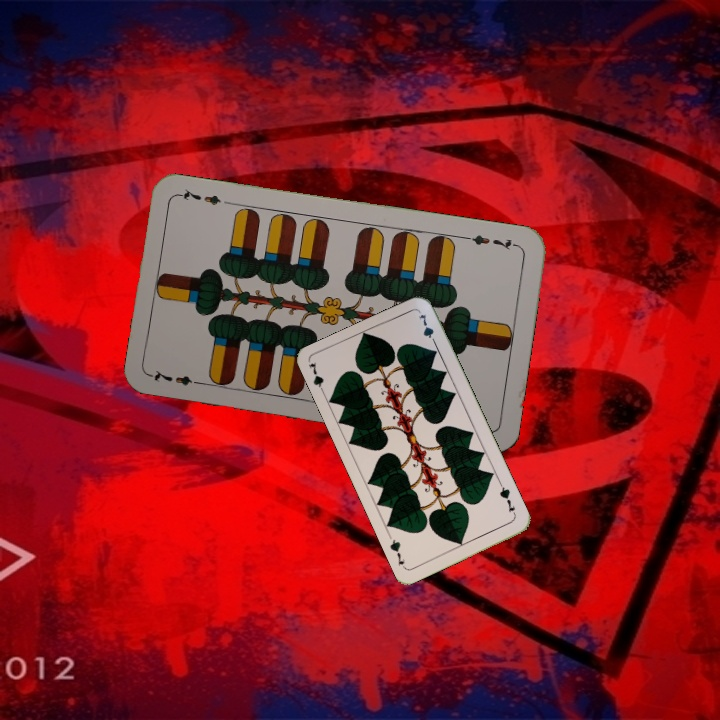E7: (462, 231, 521, 253), (148, 366, 207, 388)
G7: (305, 358, 328, 399), (495, 480, 518, 519)
